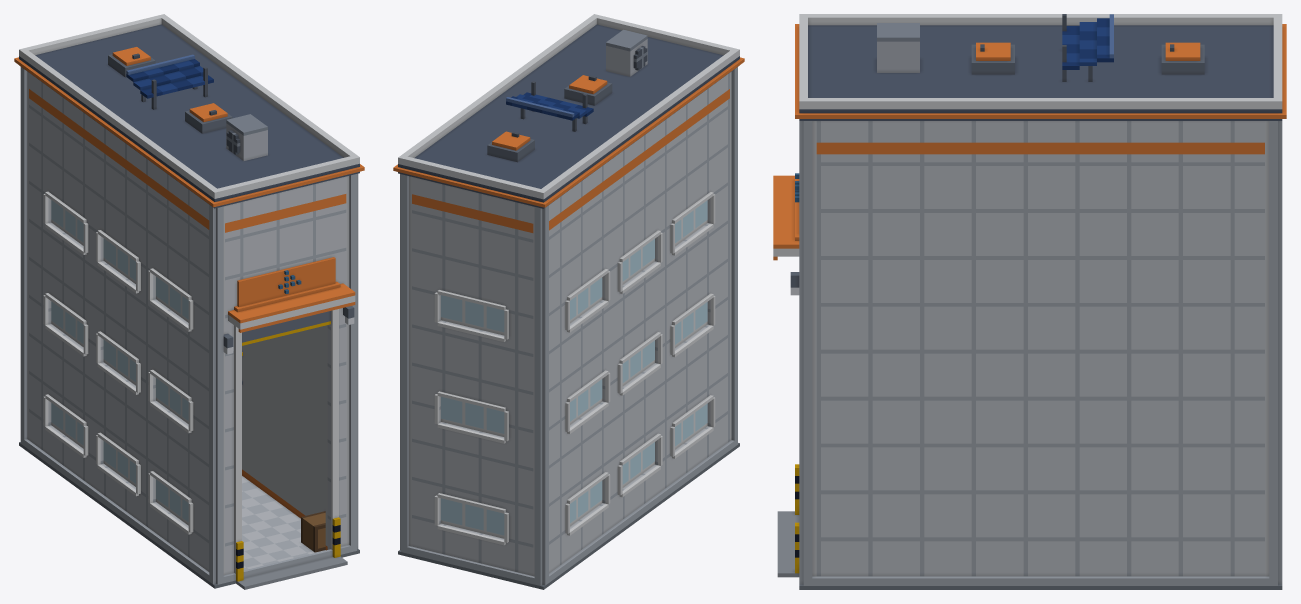
Rendered from workshop_e3_l2.glb.
3 views of the same model, side by side, from view 1: azimuth 30°, elevation 25°; view 2: azimuth 150°, elevation 25°; view 3: azimuth 270°, elevation 25° (orthographic). The views are drawn at different scales.
Parts seen in each view (by area): view 1: CutNX, CutPZ, CutRoof, Base, CutPX, CutNZ; view 2: CutNX, CutNZ, CutRoof, Base, CutPZ; view 3: CutPX, CutRoof, Base, CutPZ, CutNZ.
Boxes of the visible parts, x1=… form: CutNX: x1=29, y1=73, x2=209, y2=549; CutPZ: x1=209, y1=173, x2=358, y2=556; CutRoof: x1=14, y1=14, x2=364, y2=208; Base: x1=19, y1=352, x2=359, y2=589; CutPX: x1=242, y1=325, x2=325, y2=507; CutNZ: x1=20, y1=67, x2=28, y2=417; CutNX: x1=549, y1=73, x2=729, y2=550; CutNZ: x1=400, y1=174, x2=548, y2=557; CutRoof: x1=393, y1=14, x2=744, y2=208; Base: x1=398, y1=416, x2=739, y2=589; CutPZ: x1=730, y1=67, x2=737, y2=418; CutPX: x1=816, y1=121, x2=1264, y2=548; CutRoof: x1=795, y1=14, x2=1286, y2=120; Base: x1=777, y1=480, x2=1282, y2=589; CutPZ: x1=773, y1=121, x2=816, y2=550; CutNZ: x1=1265, y1=121, x2=1282, y2=550.
Size of the model in its own units: 5 by 13.2 by 11.9.
